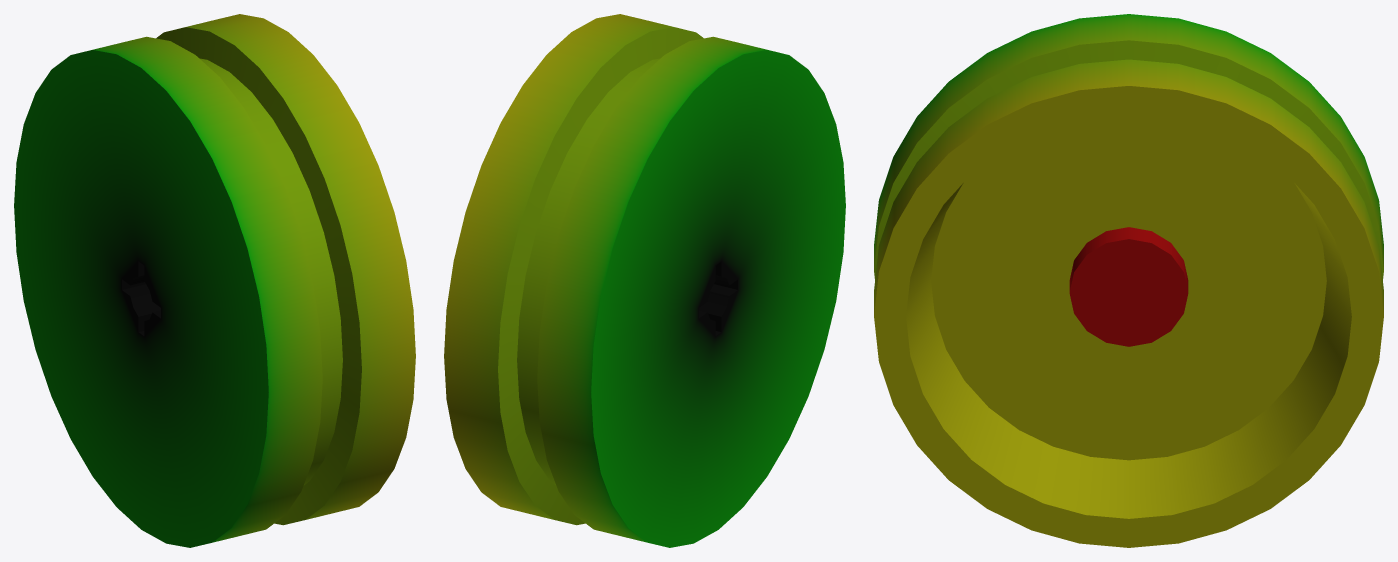
File: SM_IdlerWheel.gltf
3 renders of one model, left to right at view 1: azimuth 30°, elevation 25°; view 2: azimuth 150°, elevation 25°; view 3: azimuth 270°, elevation 25°, orthographic.
Parts seen in each view (by area): view 1: SM_IdlerWheel; view 2: SM_IdlerWheel; view 3: SM_IdlerWheel.
Part boxes in pixels (left/top/right/bottom): SM_IdlerWheel: left=14, top=14, right=415, bottom=547; SM_IdlerWheel: left=444, top=14, right=845, bottom=547; SM_IdlerWheel: left=874, top=14, right=1383, bottom=547.
Size of the model in its own units: 0.3 by 0.9 by 0.9.
